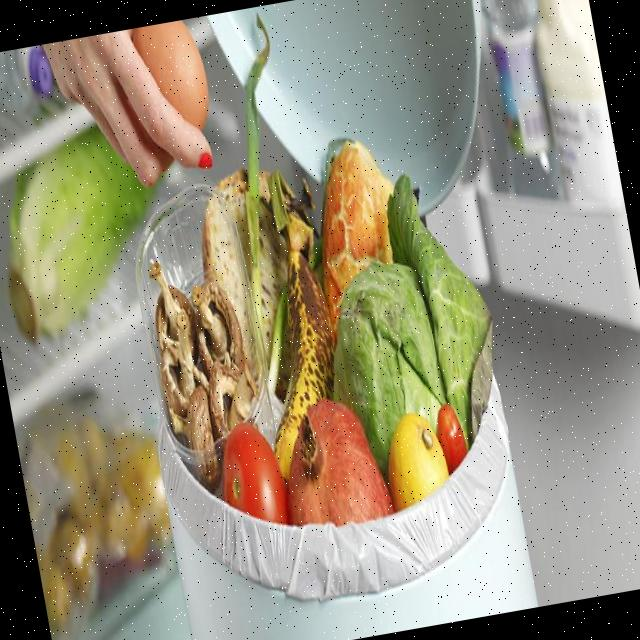banana-peel: (231, 209, 359, 483), (296, 130, 418, 335)
